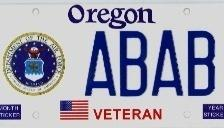A: (82, 29, 118, 97), (150, 29, 185, 98)
B: (186, 30, 218, 97), (119, 30, 148, 97)
